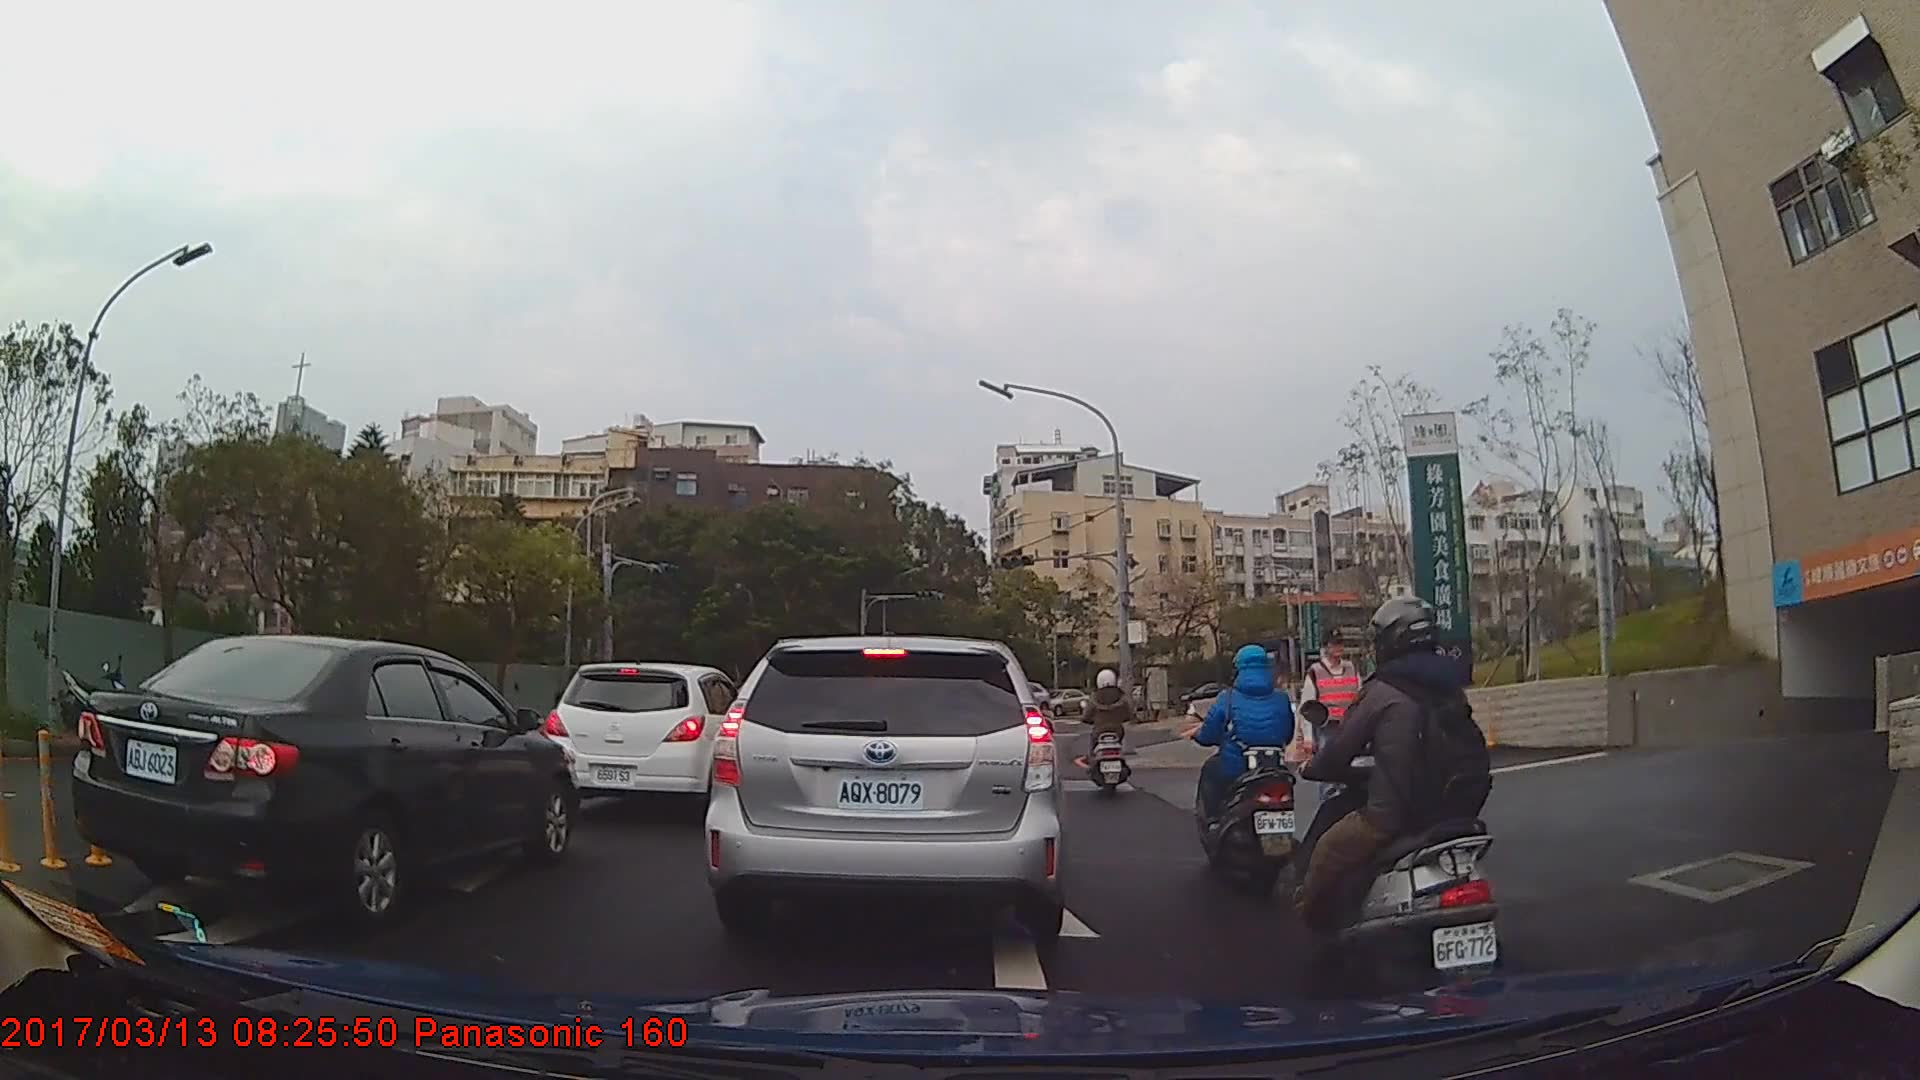pedestrian: (1295, 626, 1377, 853)
rider: (1284, 595, 1505, 1026), (1195, 642, 1307, 894), (1080, 670, 1135, 799)
vehicle: (68, 630, 575, 922), (703, 633, 1065, 943), (539, 661, 747, 820), (1175, 679, 1240, 712), (1049, 688, 1089, 717)
